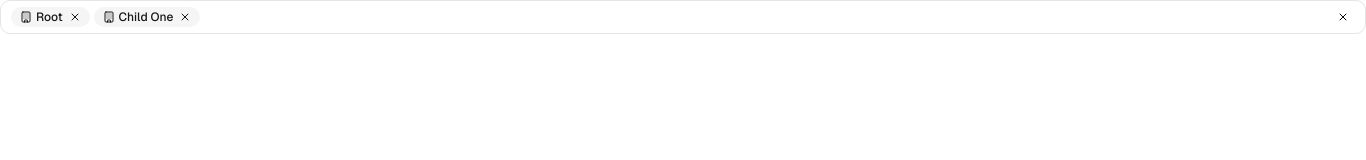
Test case: department-browse › removes a single department badge via its remove button
This screenshot has width=1366, height=160.
Click the 1st button. click: (75, 17)
box: [69, 11, 81, 23]
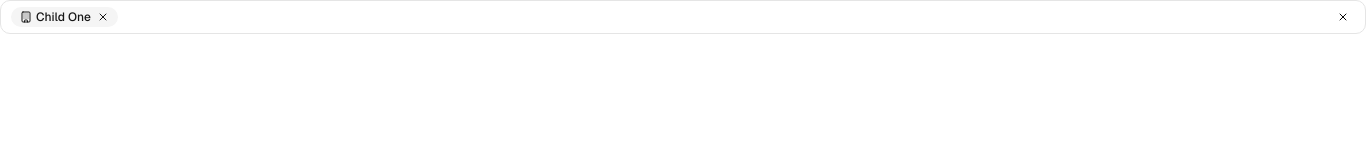
Check: the text "Root" is gone
